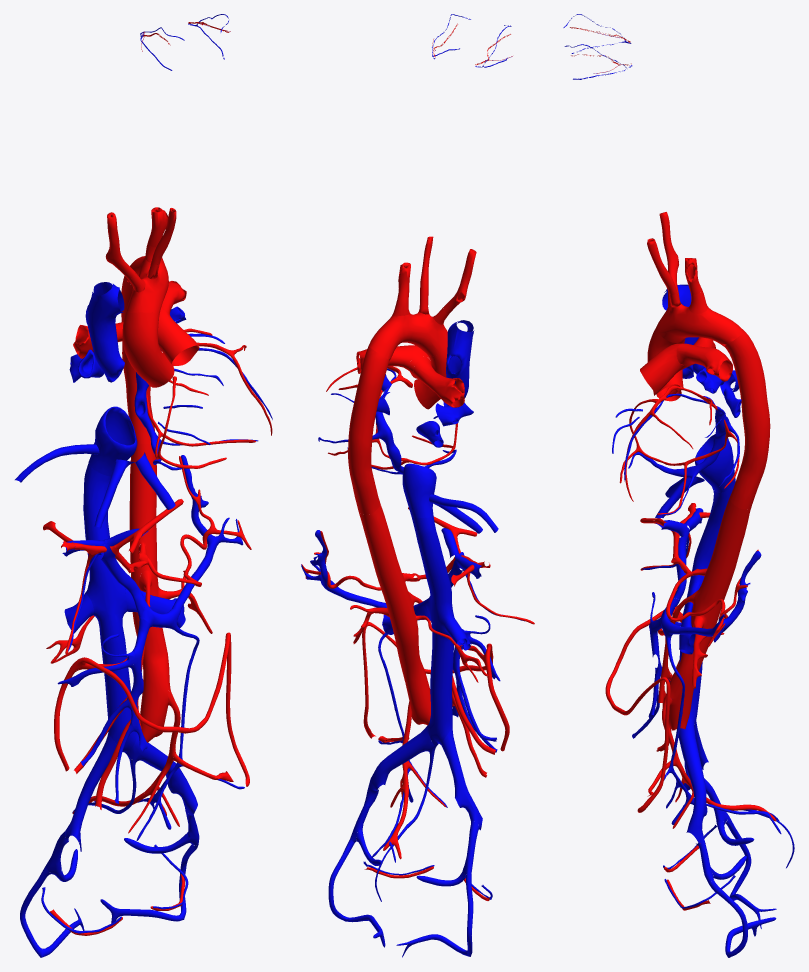
The model's file is vh_f_blood_vasculature.glb.
3 views of the same model, side by side, from view 1: azimuth 30°, elevation 25°; view 2: azimuth 150°, elevation 25°; view 3: azimuth 270°, elevation 25° (orthographic). The views are drawn at different scales.
Parts seen in each view (by area): view 1: VH_F_inferior_vena_cava_b, VH_F_descending_aorta_b, VH_F_marginal_artery_of_Drummond, VH_F_superior_vena_cava, VH_F_ascending_aorta, VH_F_inferior_vena_cava_a, VH_F_splenic_vein, VH_F_aortic_arch, VH_F_left_common_iliac_vein, VH_F_pulmonary_trunk, VH_F_descending_aorta_a, VH_F_right_common_iliac_vein (+15 smaller); view 2: VH_F_descending_aorta_b, VH_F_inferior_vena_cava_b, VH_F_descending_aorta_a, VH_F_aortic_arch, VH_F_inferior_vena_cava_a, VH_F_left_common_iliac_vein, VH_F_superior_vena_cava, VH_F_marginal_artery_of_Drummond, VH_F_pulmonary_artery_R, VH_F_right_common_iliac_vein, VH_F_splenic_vein, VH_F_ascending_aorta (+6 smaller); view 3: VH_F_descending_aorta_b, VH_F_descending_aorta_a, VH_F_aortic_arch, VH_F_inferior_vena_cava_b, VH_F_left_common_iliac_vein, VH_F_marginal_artery_of_Drummond, VH_F_splenic_vein, VH_F_pulmonary_artery_L, VH_F_inferior_vena_cava_a, VH_F_pulmonary_trunk, VH_F_splenic_artery, VH_F_ascending_aorta (+11 smaller).
Boxes of the visible parts, bbox=[...] form: VH_F_inferior_vena_cava_b: bbox=[83, 463, 136, 752]; VH_F_descending_aorta_b: bbox=[129, 443, 170, 742]; VH_F_marginal_artery_of_Drummond: bbox=[54, 632, 249, 786]; VH_F_superior_vena_cava: bbox=[85, 282, 124, 382]; VH_F_ascending_aorta: bbox=[122, 312, 174, 387]; VH_F_inferior_vena_cava_a: bbox=[88, 406, 137, 476]; VH_F_splenic_vein: bbox=[140, 455, 243, 629]; VH_F_aortic_arch: bbox=[125, 256, 168, 315]; VH_F_left_common_iliac_vein: bbox=[125, 733, 197, 815]; VH_F_pulmonary_trunk: bbox=[158, 309, 199, 365]; VH_F_descending_aorta_a: bbox=[121, 276, 154, 444]; VH_F_right_common_iliac_vein: bbox=[64, 736, 116, 844]; VH_F_descending_aorta_b: bbox=[359, 504, 430, 725]; VH_F_inferior_vena_cava_b: bbox=[412, 516, 454, 745]; VH_F_descending_aorta_a: bbox=[348, 347, 389, 514]; VH_F_aortic_arch: bbox=[368, 312, 447, 360]; VH_F_inferior_vena_cava_a: bbox=[402, 463, 436, 517]; VH_F_left_common_iliac_vein: bbox=[364, 724, 434, 805]; VH_F_superior_vena_cava: bbox=[443, 320, 474, 406]; VH_F_marginal_artery_of_Drummond: bbox=[362, 622, 509, 751]; VH_F_pulmonary_artery_R: bbox=[414, 357, 464, 407]; VH_F_right_common_iliac_vein: bbox=[441, 729, 482, 830]; VH_F_splenic_vein: bbox=[301, 530, 386, 607]; VH_F_ascending_aorta: bbox=[414, 347, 447, 409]; VH_F_descending_aorta_b: bbox=[666, 497, 751, 730]; VH_F_descending_aorta_a: bbox=[724, 332, 770, 509]; VH_F_aortic_arch: bbox=[657, 304, 744, 346]; VH_F_inferior_vena_cava_b: bbox=[679, 480, 735, 726]; VH_F_left_common_iliac_vein: bbox=[678, 718, 707, 843]; VH_F_marginal_artery_of_Drummond: bbox=[605, 609, 682, 812]; VH_F_splenic_vein: bbox=[660, 551, 761, 642]; VH_F_pulmonary_artery_L: bbox=[676, 343, 732, 381]; VH_F_inferior_vena_cava_a: bbox=[695, 434, 735, 492]; VH_F_pulmonary_trunk: bbox=[640, 343, 694, 394]; VH_F_splenic_artery: bbox=[666, 549, 758, 647]; VH_F_ascending_aorta: bbox=[647, 323, 685, 401].
Bounding box in the file's own units: 0.1927 × 0.7989 × 0.1848.
